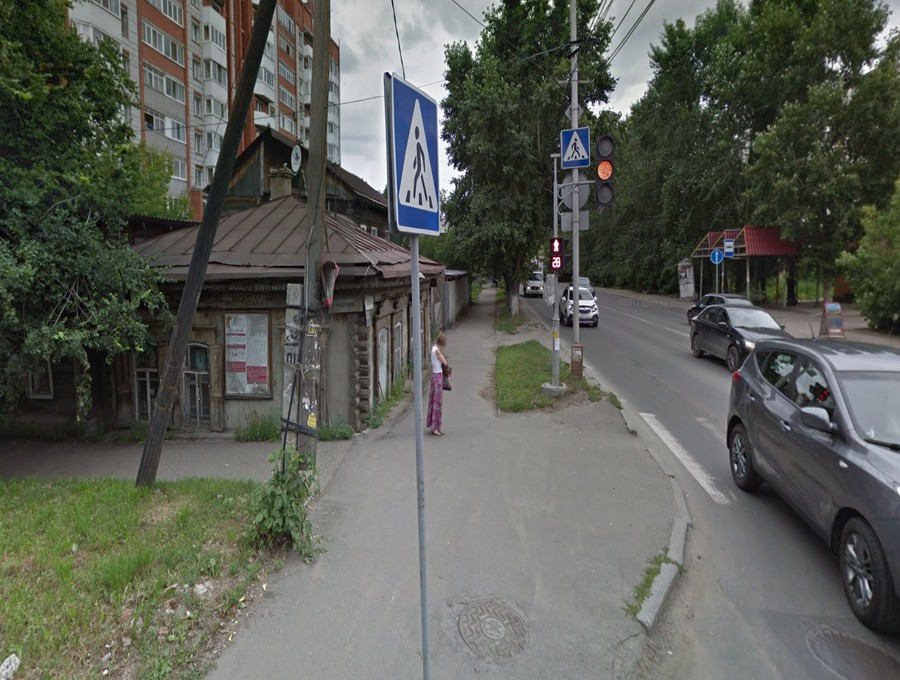Traffic Light-red: (549, 232, 565, 273)
